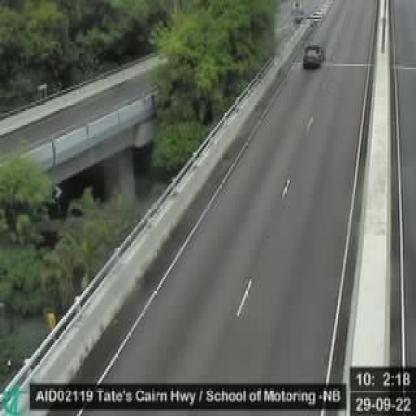Car: (300, 40, 326, 71)
